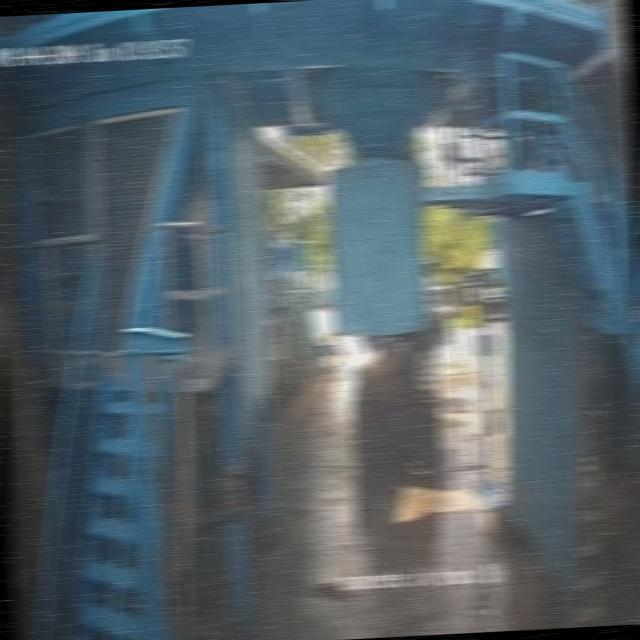cement_mixer_truck: (349, 261, 451, 473)
